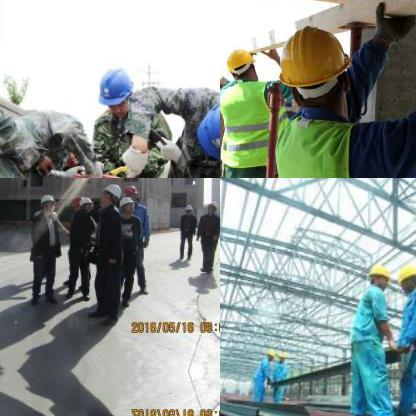Helmet: (270, 20, 356, 102), (190, 86, 219, 166), (94, 62, 136, 116), (220, 41, 258, 83), (97, 180, 121, 206), (366, 262, 390, 286), (395, 261, 415, 287), (36, 190, 56, 214), (116, 195, 134, 213), (124, 182, 138, 200), (77, 196, 93, 210), (205, 198, 219, 214), (182, 202, 192, 214)
